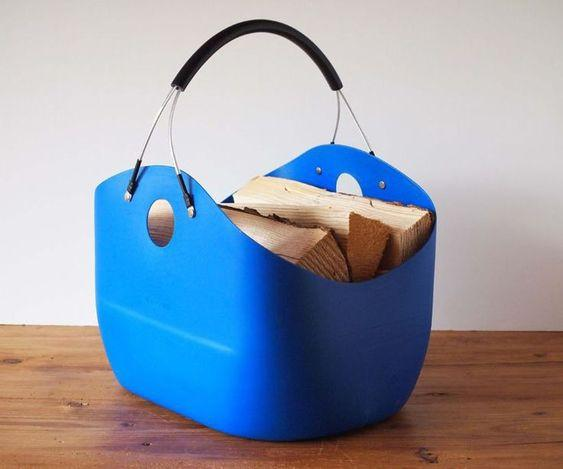HDPE: (92, 143, 438, 446)
